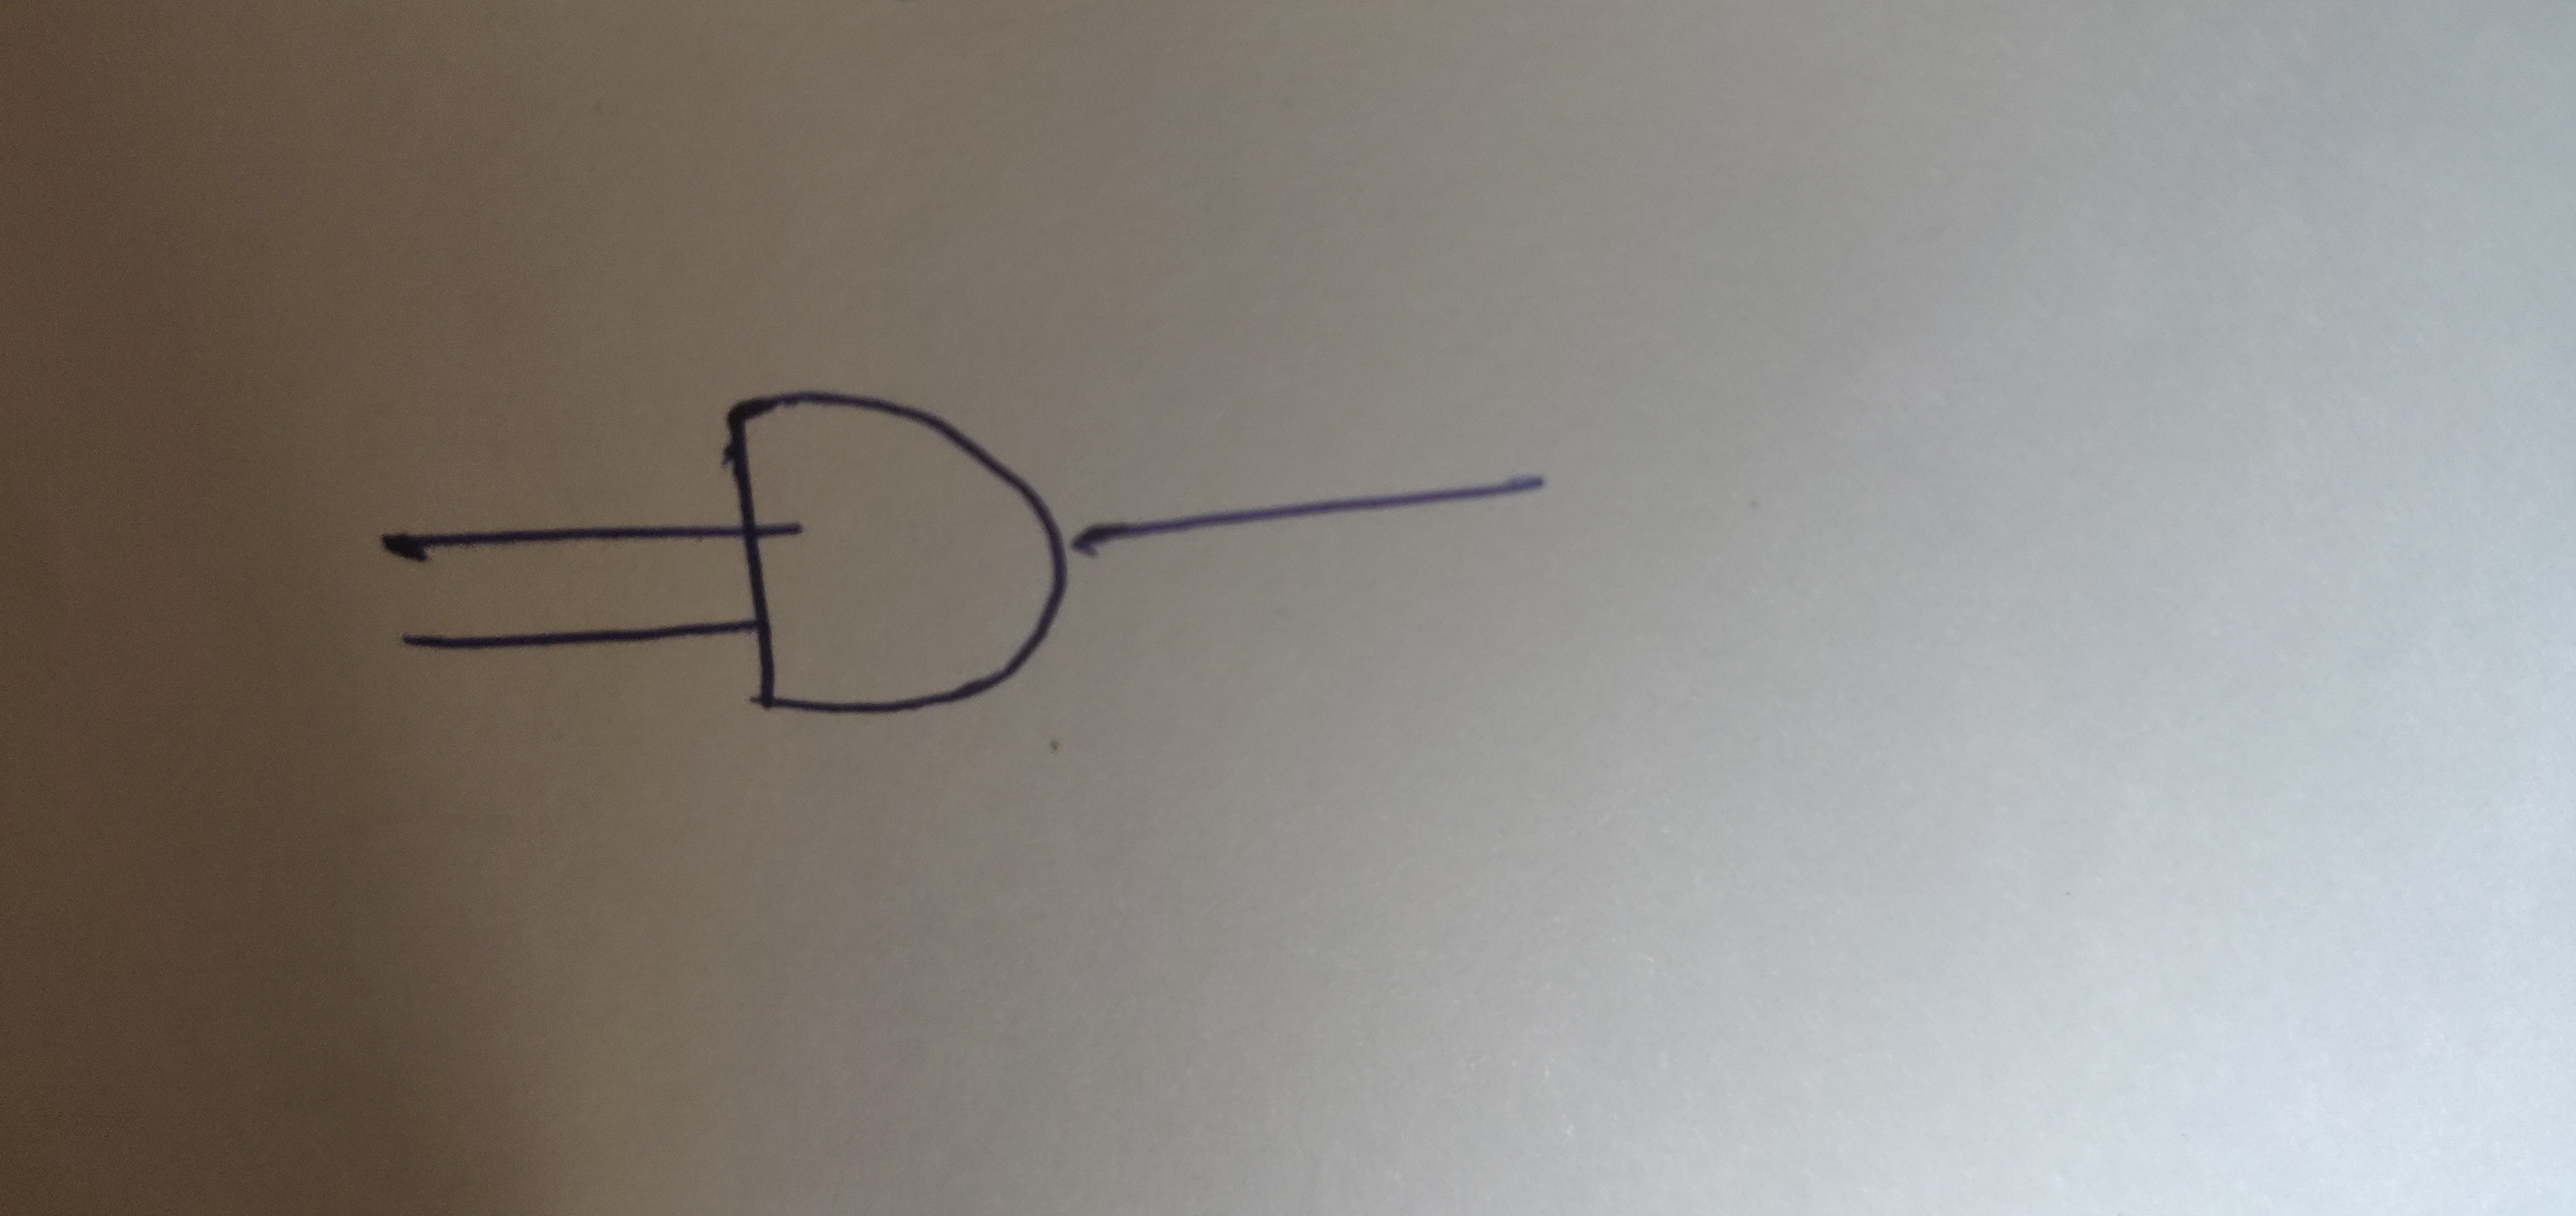and: (656, 352, 1153, 769)
